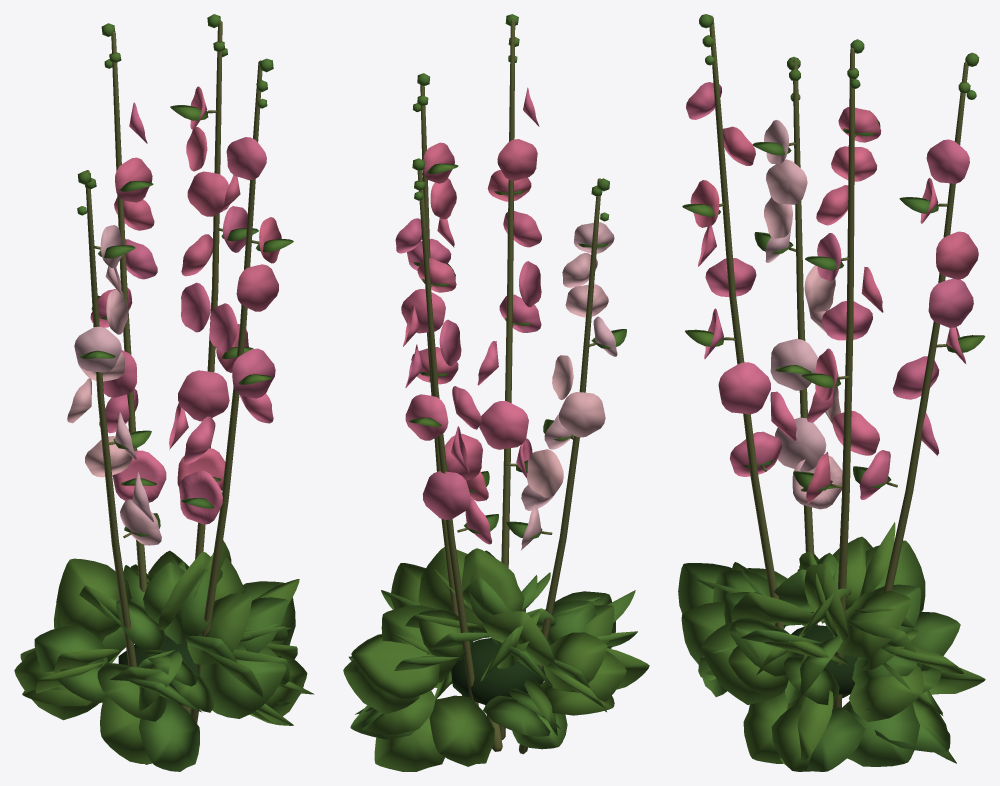
Rendered from bed_hollyhock_pink.glb.
The picture shows the model from 3 angles, left to right: view 1: azimuth 30°, elevation 25°; view 2: azimuth 150°, elevation 25°; view 3: azimuth 270°, elevation 25°; orthographic projection. The views are drawn at different scales.
Visible parts, largest first — view 1: Sammel Pflanze, Sammel Putz, Sammel Blatt; view 2: Sammel Pflanze, Sammel Putz, Sammel Blatt; view 3: Sammel Pflanze, Sammel Putz, Sammel Blatt.
Boxes of the visible parts, x1,y1,x2,y2 form: Sammel Pflanze: (14,14,314,771); Sammel Putz: (86,21,262,764); Sammel Blatt: (118,635,200,704); Sammel Pflanze: (343,14,649,771); Sammel Putz: (417,19,601,754); Sammel Blatt: (451,638,545,704); Sammel Pflanze: (678,14,985,771); Sammel Putz: (709,15,968,708); Sammel Blatt: (791,625,858,697).
Bounding box in the file's own units: 0.5667 × 1.45 × 0.5359.
